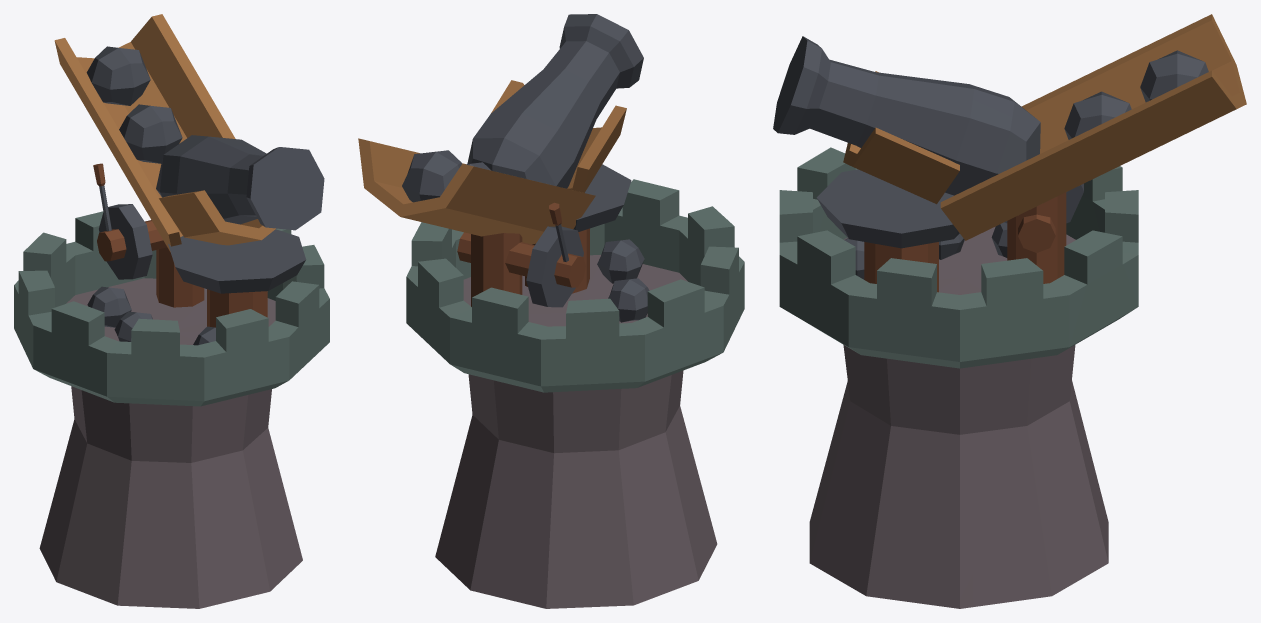
Rendered from CannonTower.fbx.
3 renders of one model, left to right at view 1: azimuth 30°, elevation 25°; view 2: azimuth 150°, elevation 25°; view 3: azimuth 270°, elevation 25°, orthographic. The views are drawn at different scales.
Visible parts, largest first — view 1: Defense_set_1_015_rock_blue_0.001, Defense_set_1_015_rock_0.001, Defense_set_1_015_metal_0.001, Defense_set_1_015_wood_0.001, Defense_set_1_015_wood_dark_0.001; view 2: Defense_set_1_015_rock_blue_0.001, Defense_set_1_015_rock_0.001, Defense_set_1_015_metal_0.001, Defense_set_1_015_wood_0.001, Defense_set_1_015_wood_dark_0.001; view 3: Defense_set_1_015_rock_blue_0.001, Defense_set_1_015_rock_0.001, Defense_set_1_015_metal_0.001, Defense_set_1_015_wood_0.001, Defense_set_1_015_wood_dark_0.001.
Part boxes in pixels (bbox=[...]): Defense_set_1_015_rock_blue_0.001: bbox=[39, 278, 302, 608]; Defense_set_1_015_rock_0.001: bbox=[14, 211, 329, 406]; Defense_set_1_015_metal_0.001: bbox=[86, 46, 324, 345]; Defense_set_1_015_wood_0.001: bbox=[54, 14, 275, 252]; Defense_set_1_015_wood_dark_0.001: bbox=[93, 163, 267, 327]; Defense_set_1_015_rock_blue_0.001: bbox=[435, 255, 717, 608]; Defense_set_1_015_rock_0.001: bbox=[406, 179, 744, 392]; Defense_set_1_015_metal_0.001: bbox=[402, 14, 649, 322]; Defense_set_1_015_wood_0.001: bbox=[358, 80, 626, 244]; Defense_set_1_015_wood_dark_0.001: bbox=[457, 202, 589, 306]; Defense_set_1_015_rock_blue_0.001: bbox=[809, 226, 1108, 608]; Defense_set_1_015_rock_0.001: bbox=[779, 147, 1138, 368]; Defense_set_1_015_metal_0.001: bbox=[773, 36, 1208, 279]; Defense_set_1_015_wood_0.001: bbox=[843, 14, 1246, 240]; Defense_set_1_015_wood_dark_0.001: bbox=[864, 192, 1066, 292].
Size of the model in its own units: 512 by 788 by 641.
